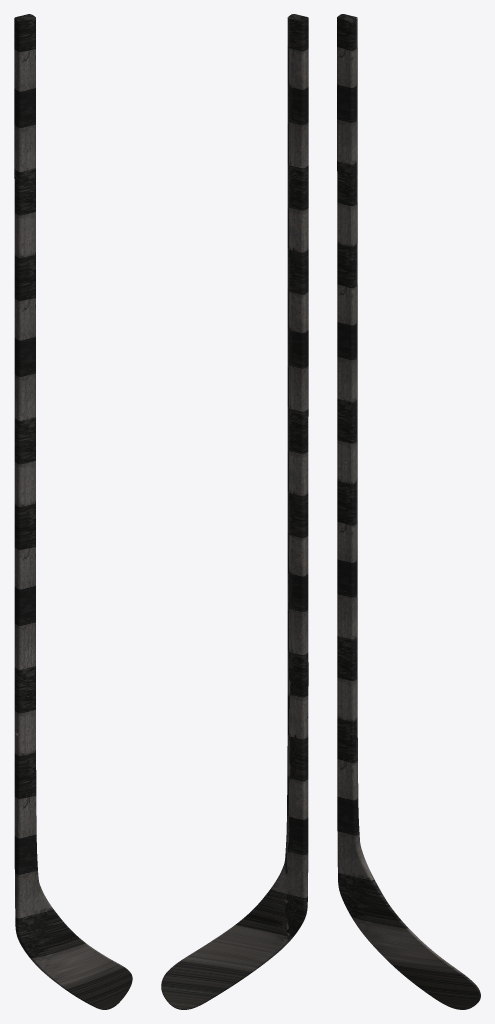
3 renders of one model, left to right at view 1: azimuth 30°, elevation 25°; view 2: azimuth 150°, elevation 25°; view 3: azimuth 330°, elevation 25°, orthographic. The views are drawn at different scales.
Parts seen in each view (by area): view 1: geometry_0; view 2: geometry_0; view 3: geometry_0.
Part boxes in pixels (x1=…): geometry_0: x1=14, y1=14, x2=132, y2=1009; geometry_0: x1=161, y1=14, x2=308, y2=1009; geometry_0: x1=337, y1=14, x2=480, y2=1009.
Size of the model in its own units: 222 by 1650 by 63.71.
Materials: 1 (1 with a texture image).
